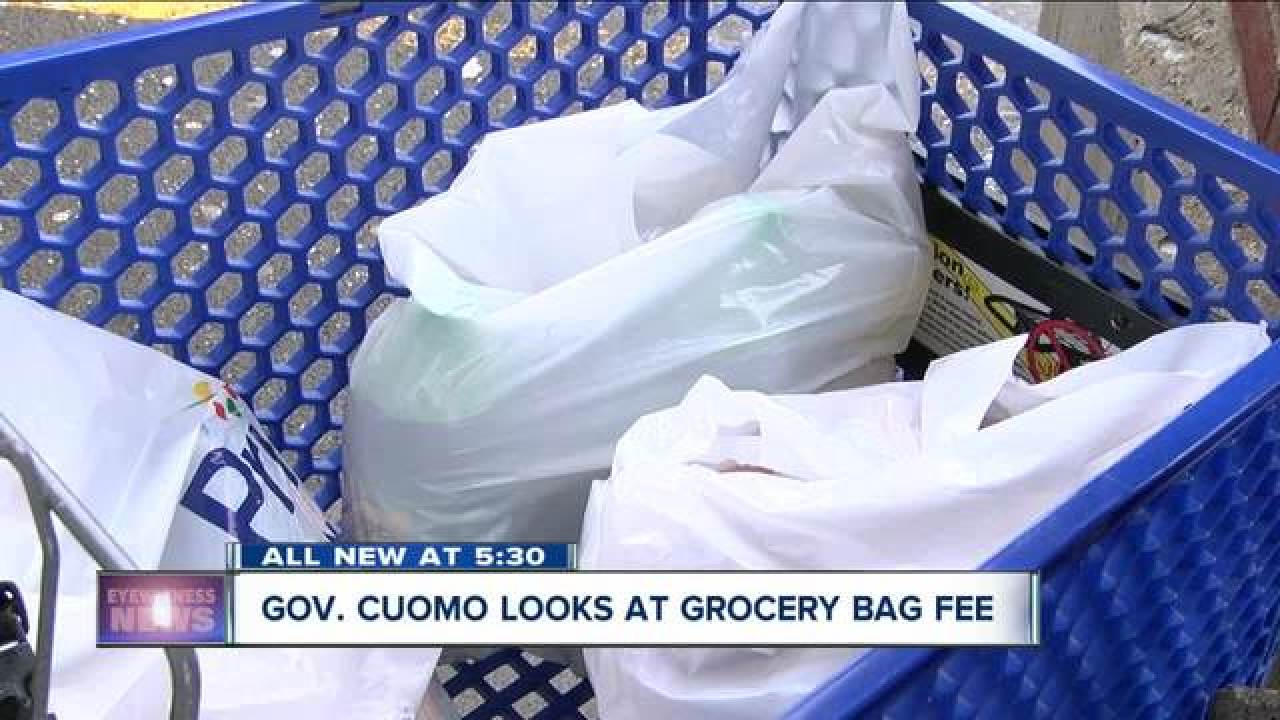plastic_bagwdw: (233, 1, 1078, 562), (495, 265, 1272, 717)
